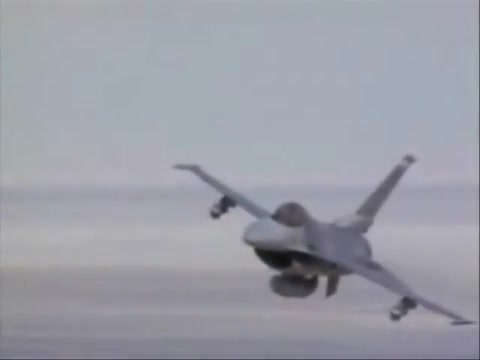aeroplane: (171, 155, 478, 327)
